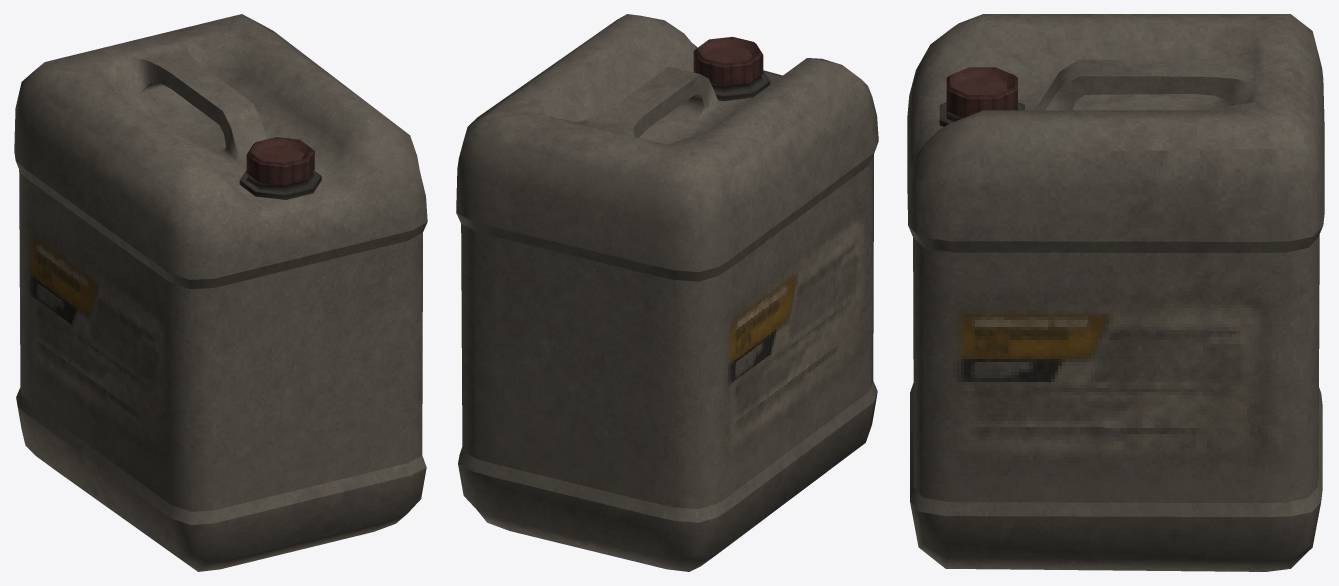
Rendered from jerrycan_1.glb.
3 views of the same model, side by side, from view 1: azimuth 30°, elevation 25°; view 2: azimuth 150°, elevation 25°; view 3: azimuth 270°, elevation 25° (orthographic). The views are drawn at different scales.
Parts seen in each view (by area): view 1: jerrycan_1; view 2: jerrycan_1; view 3: jerrycan_1.
Part boxes in pixels (x1,y1,x2,y2): jerrycan_1: (14, 14, 427, 571); jerrycan_1: (456, 14, 878, 571); jerrycan_1: (907, 14, 1324, 571).
Bounding box in the file's own units: 0.3364 × 0.5025 × 0.4198.
1 material, 1 textured.
